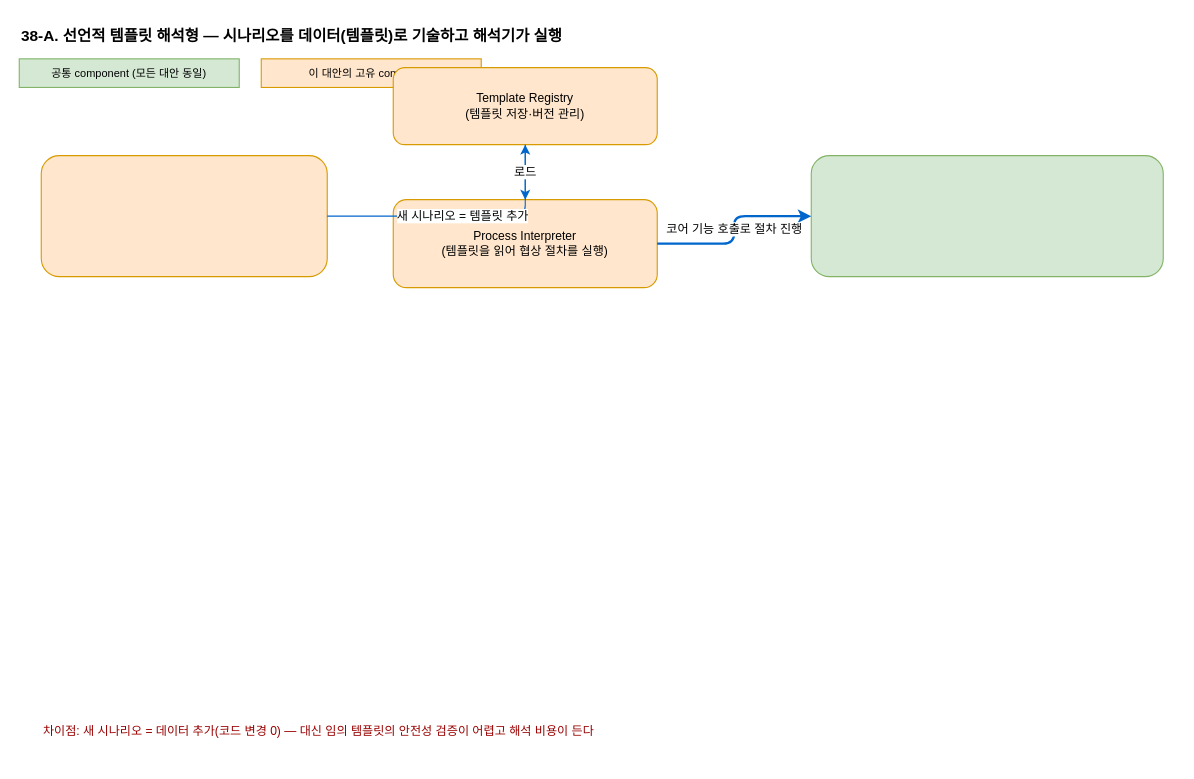
Image size: 1194x779. Some labels were removed from this diagram. Each missing label, with the centre of its shape:
"Scenario Template (데이터) 의제 순서 · 라운드 구성 승인 지점 · 완결 규칙" belongs at [183,216].
"협상 코어 (공통) 라운드 실행 · 완결 판정 · 메시지 프로토콜 (코드 변경 없이 유지되는 부분)" belongs at [986,216].
